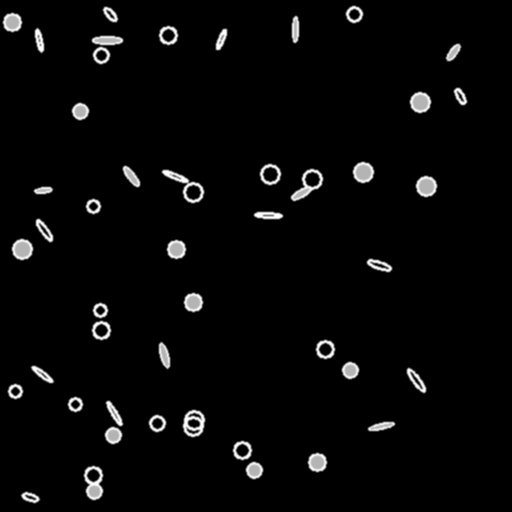pseudomonas: (406, 368, 426, 392), (34, 218, 54, 242), (105, 400, 123, 426), (31, 364, 53, 384), (121, 165, 141, 187), (162, 169, 188, 183), (290, 185, 312, 201), (157, 342, 171, 367), (367, 258, 391, 272), (445, 42, 461, 62), (215, 28, 227, 50), (102, 6, 118, 22), (453, 87, 467, 105), (34, 28, 44, 52), (369, 421, 393, 431), (21, 492, 39, 502), (92, 37, 121, 43), (254, 212, 282, 218), (292, 16, 298, 42), (34, 186, 52, 194)
synechocystis: (303, 170, 321, 188), (184, 417, 202, 435), (185, 411, 203, 429), (417, 177, 435, 195), (13, 240, 31, 258), (184, 183, 202, 201), (354, 163, 372, 181), (261, 165, 279, 183), (411, 93, 429, 111), (185, 294, 201, 310), (234, 442, 250, 458), (168, 241, 184, 257), (93, 322, 109, 338), (85, 467, 101, 483), (160, 27, 176, 43), (309, 454, 325, 470), (317, 341, 333, 357), (4, 14, 20, 30), (106, 428, 120, 442), (347, 7, 361, 21), (150, 416, 164, 430), (73, 104, 87, 118), (94, 48, 108, 62), (247, 463, 261, 477), (87, 484, 101, 498), (343, 363, 357, 377), (87, 200, 99, 212), (9, 385, 21, 397), (94, 304, 106, 316), (69, 398, 81, 410)
